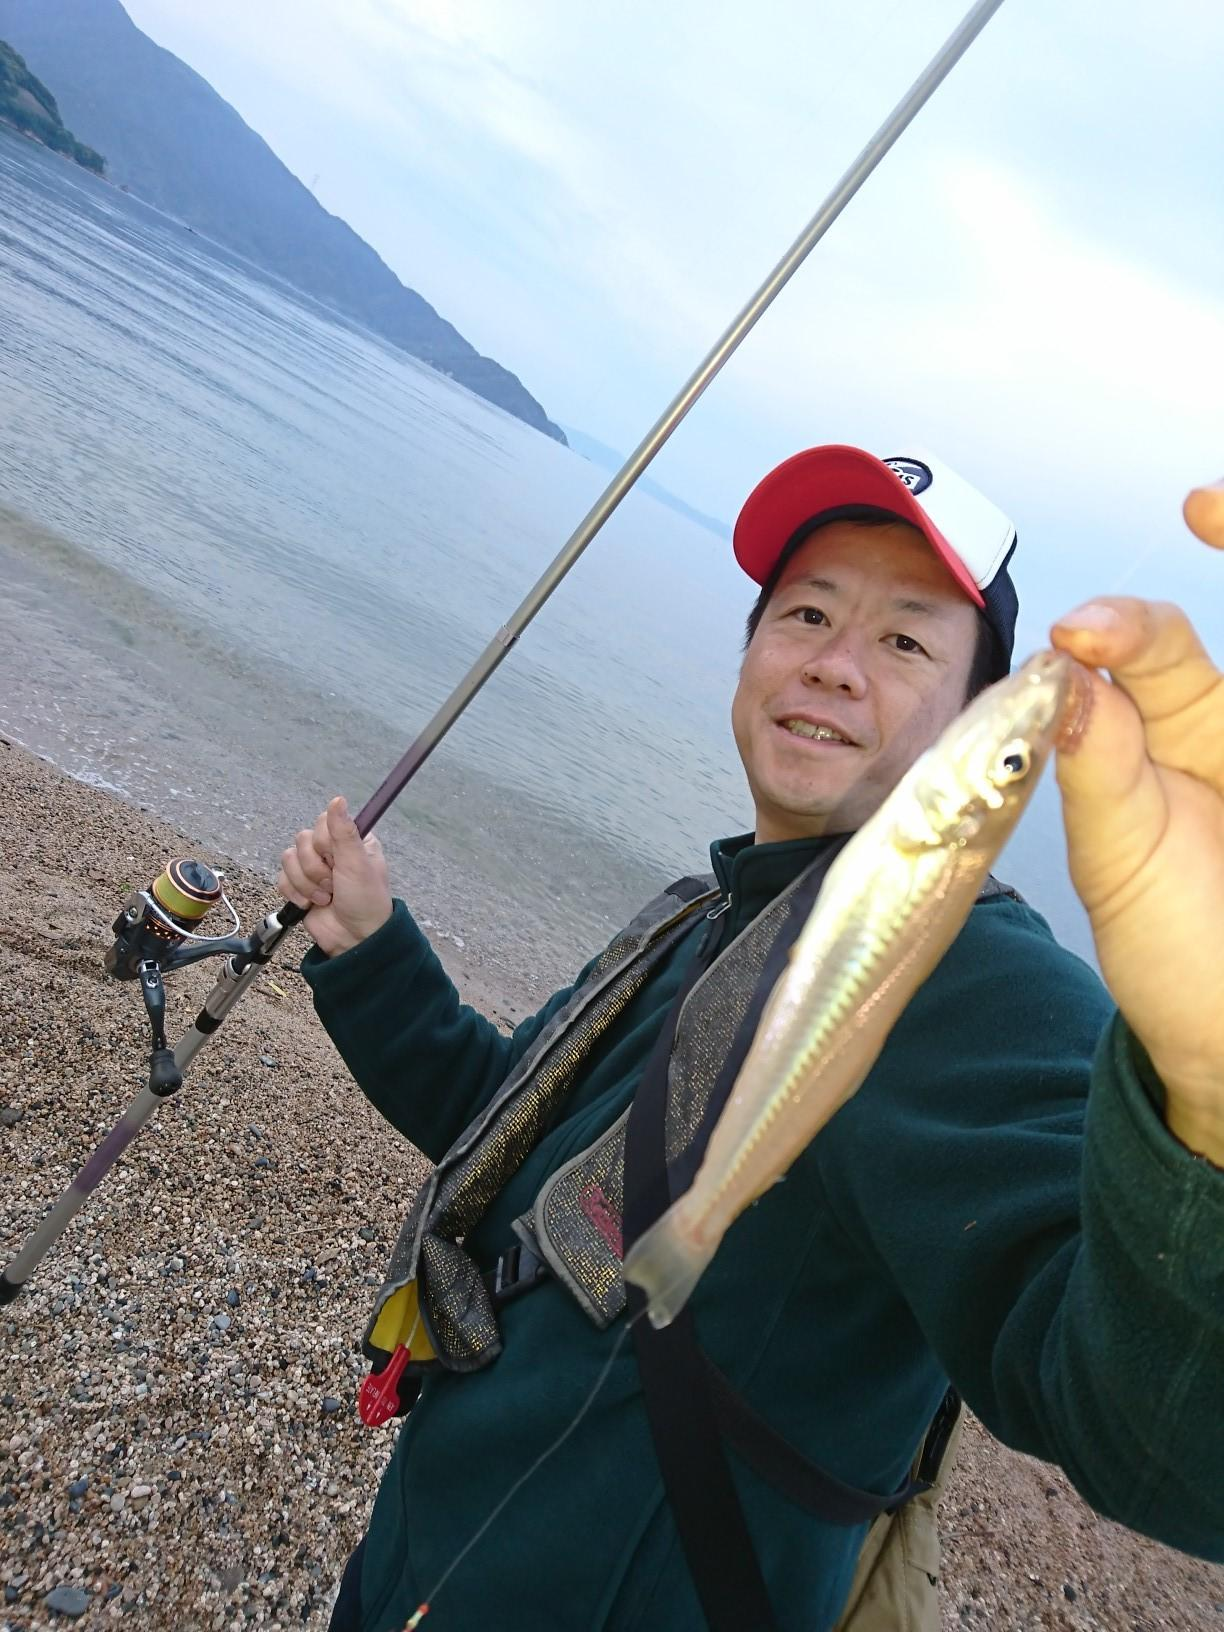kiss: (603, 652, 1074, 1320)
